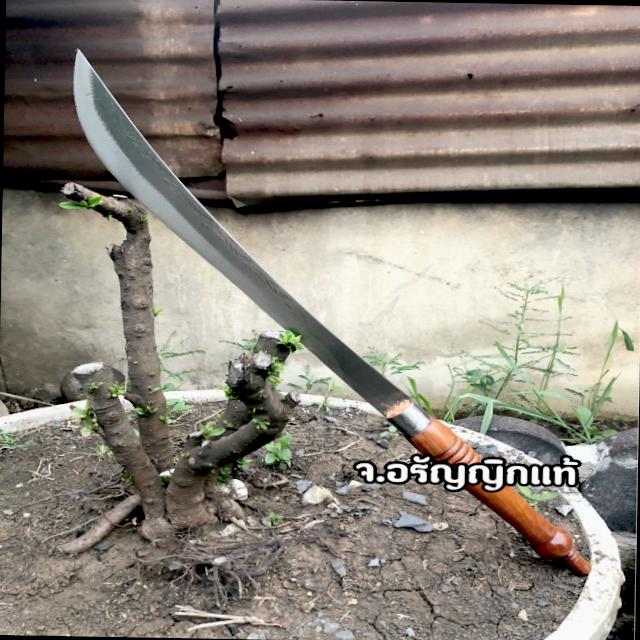long sword: (64, 47, 634, 571)
